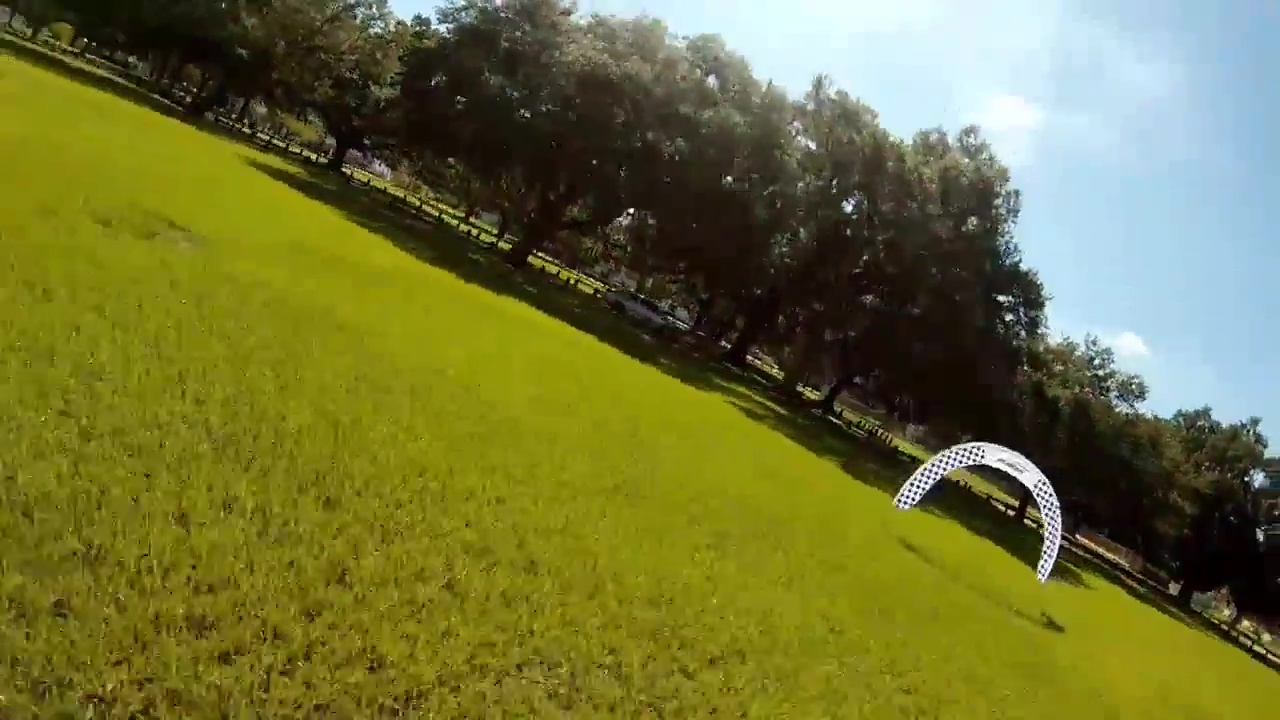gate: (894, 439, 1061, 589)
